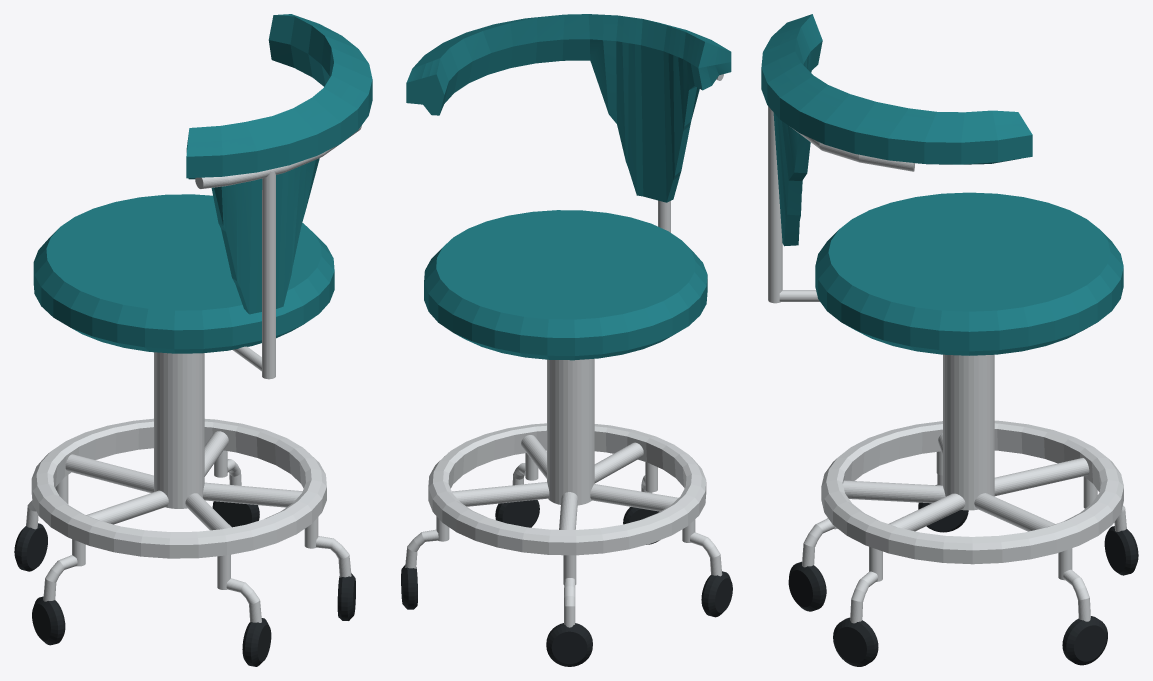
Rendered from sgabello.glb.
3 renders of one model, left to right at view 1: azimuth 30°, elevation 25°; view 2: azimuth 150°, elevation 25°; view 3: azimuth 270°, elevation 25°, orthographic. The views are drawn at different scales.
Parts seen in each view (by area): view 1: _exp_SGABELLO; view 2: _exp_SGABELLO; view 3: _exp_SGABELLO.
Boxes of the visible parts, bbox=[...] form: _exp_SGABELLO: bbox=[14, 14, 372, 666]; _exp_SGABELLO: bbox=[401, 14, 732, 666]; _exp_SGABELLO: bbox=[761, 14, 1138, 666].
Bounding box in the file's own units: 0.4999 × 0.85 × 0.516.
